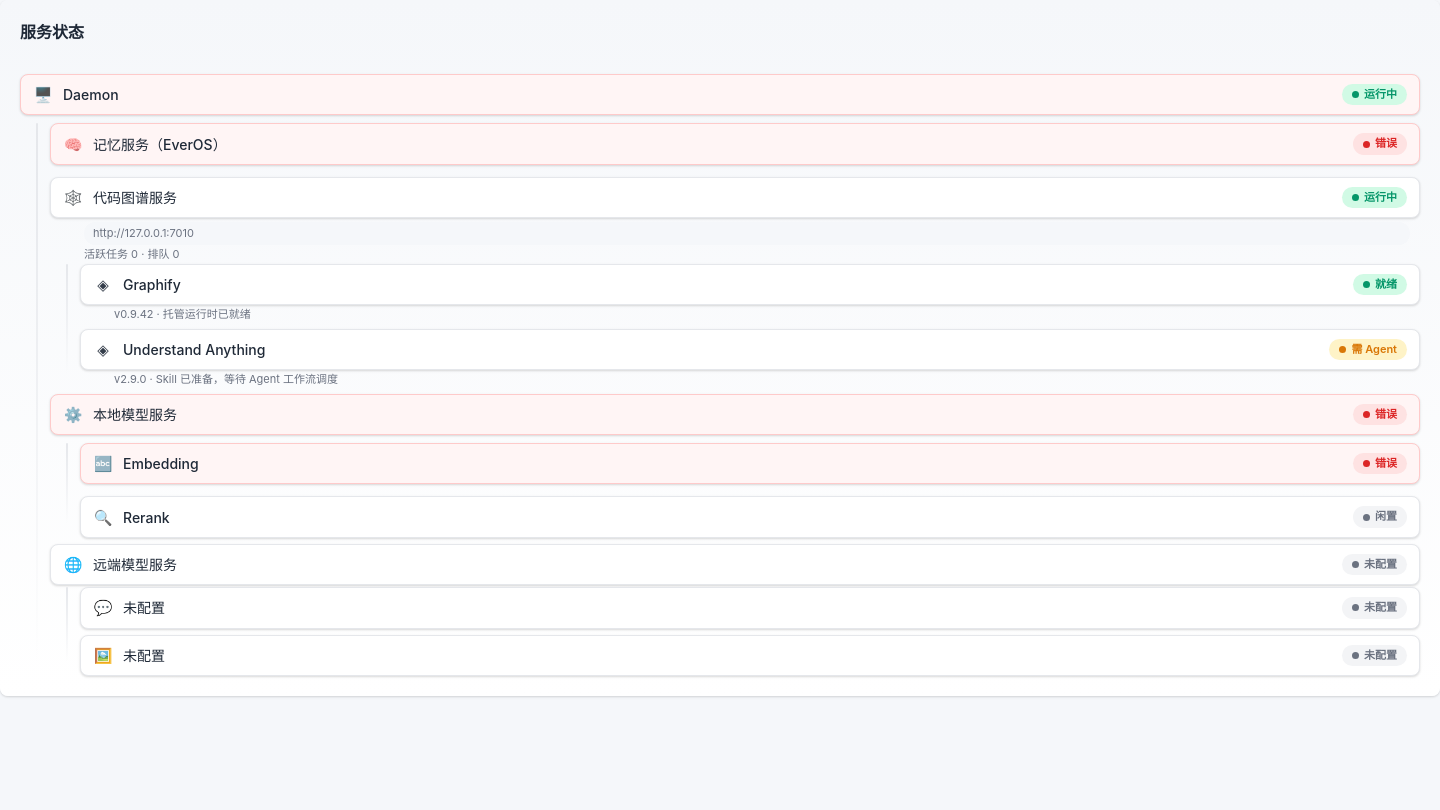
Test: ServiceStatusPanel › 错误状态可点击展开，显示截断错误摘要
The width and height of the screenshot is (1440, 810).
// 点击记忆服务（EverOS）错误行展开
Click the text "记忆服务（EverOS）" at point(160, 144), box 93,136 -> 227,153
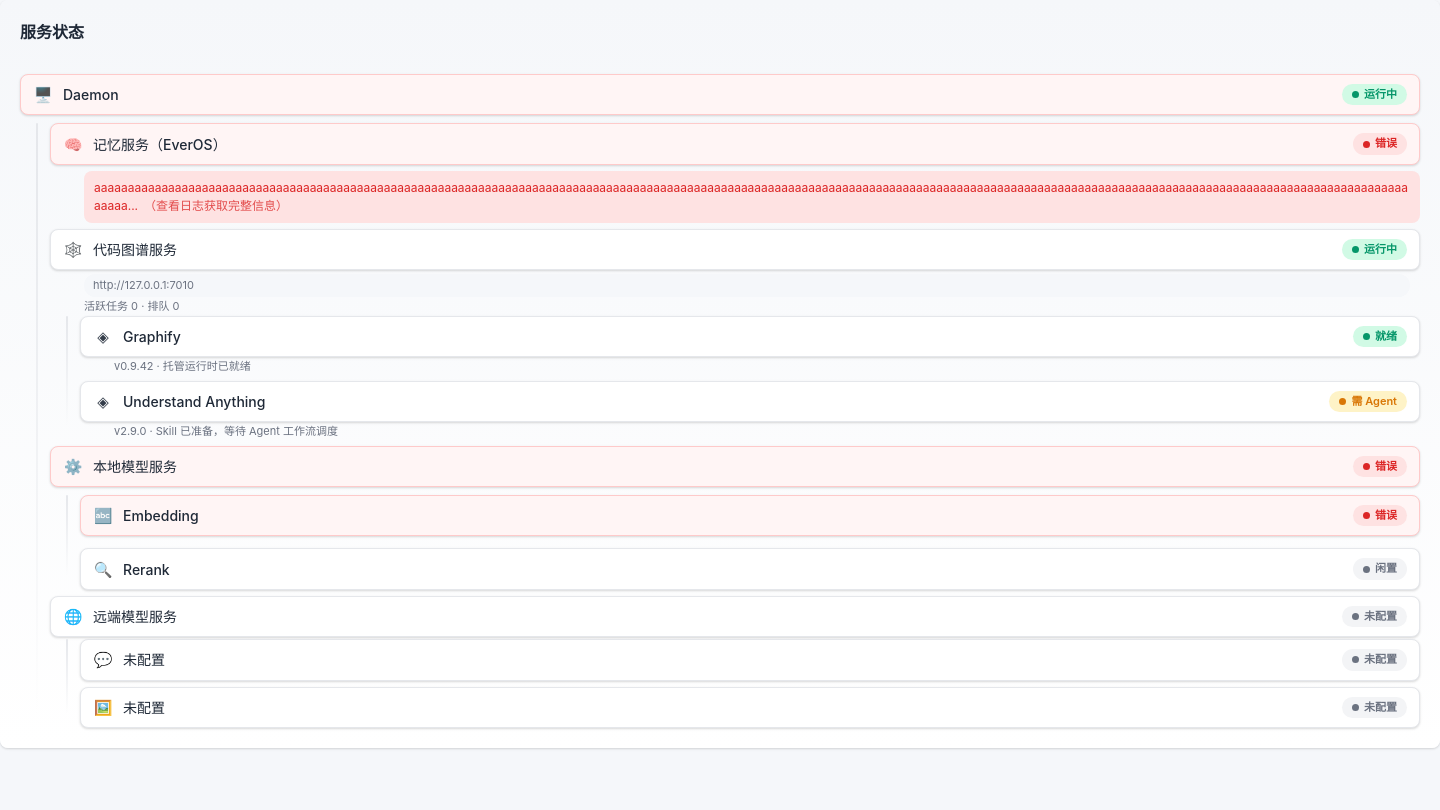
// 点击 Embedding 错误行展开
Click the text "Embedding" at point(161, 516), box 123,507 -> 199,524
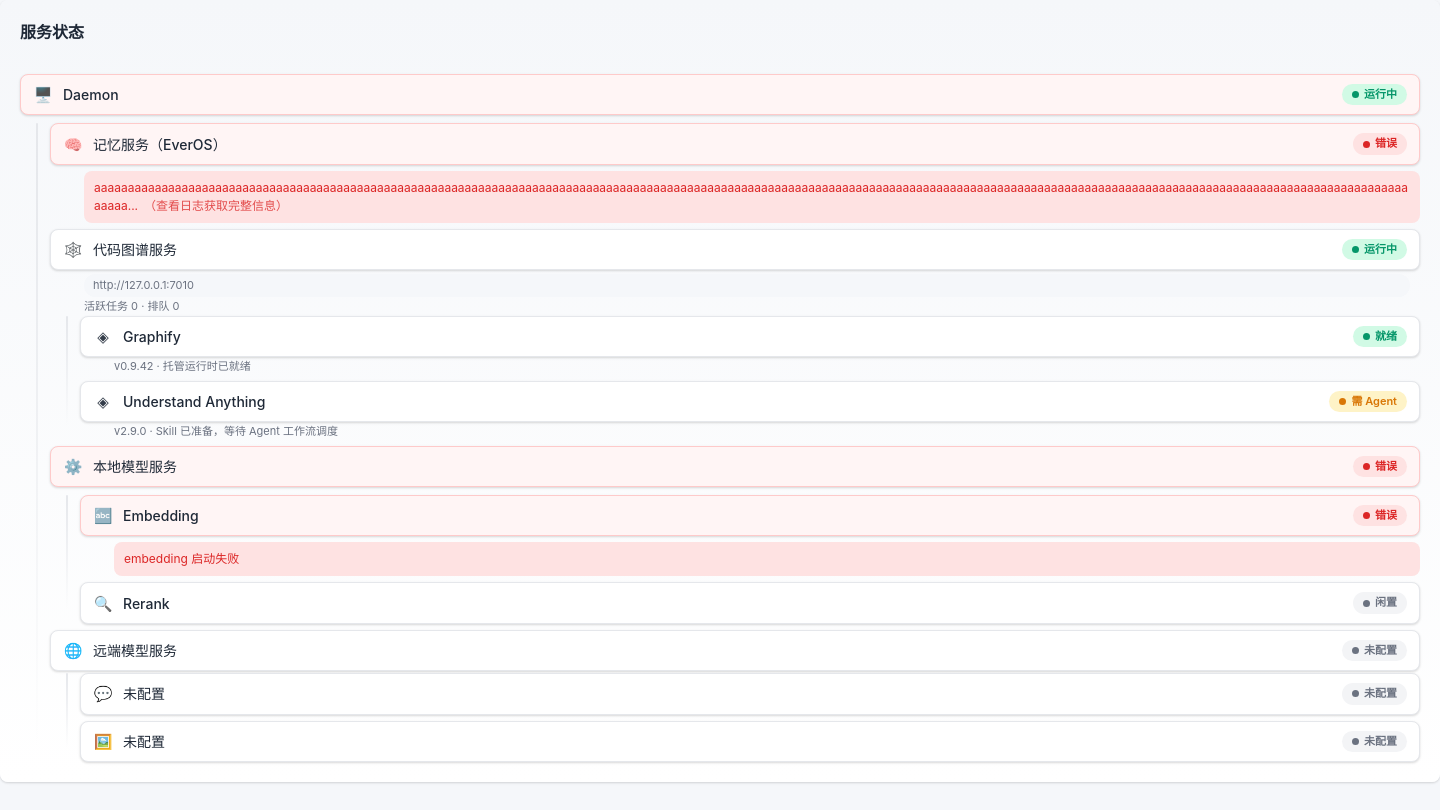
Result: the text "embedding 启动失败" is shown at 114,542 -> 1420,576
